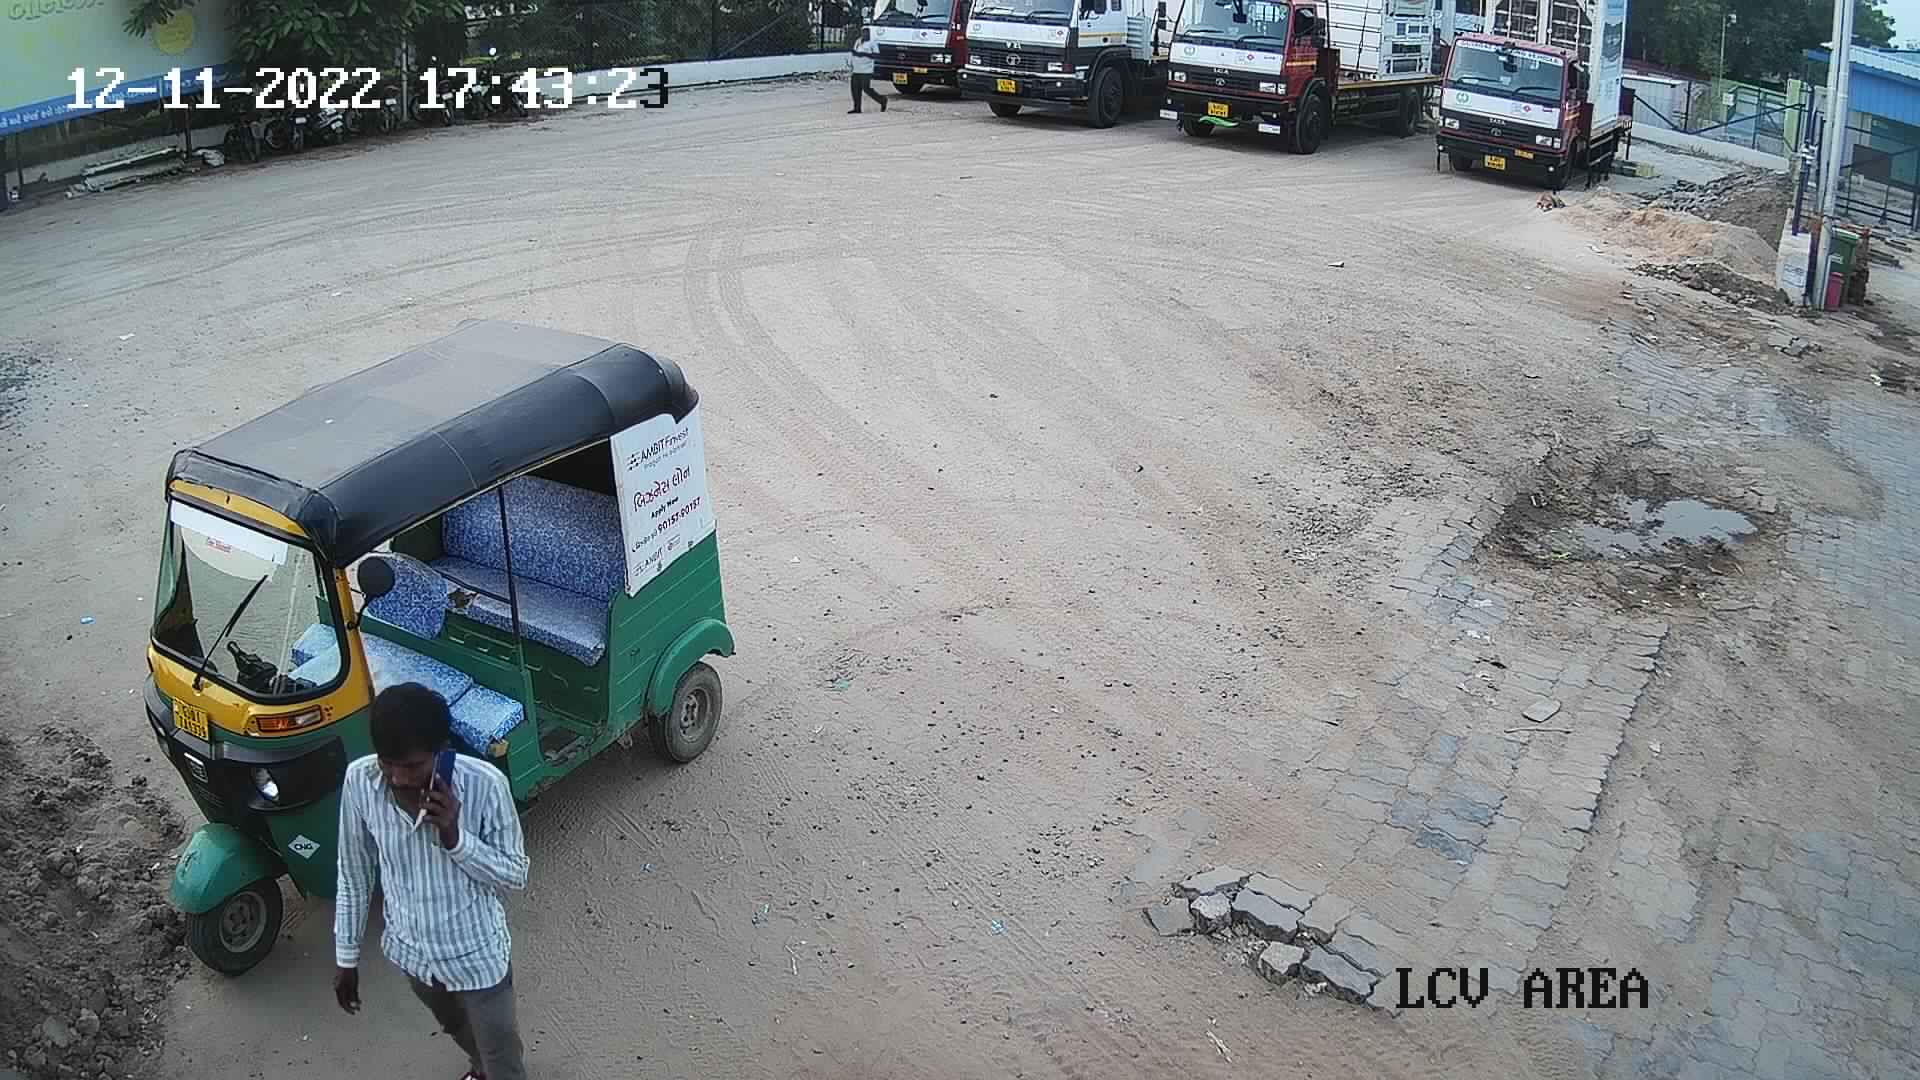Auto: (135, 307, 746, 982)
HMV: (1142, 0, 1451, 153), (1414, 1, 1644, 196), (947, 0, 1189, 127), (847, 0, 976, 104)
